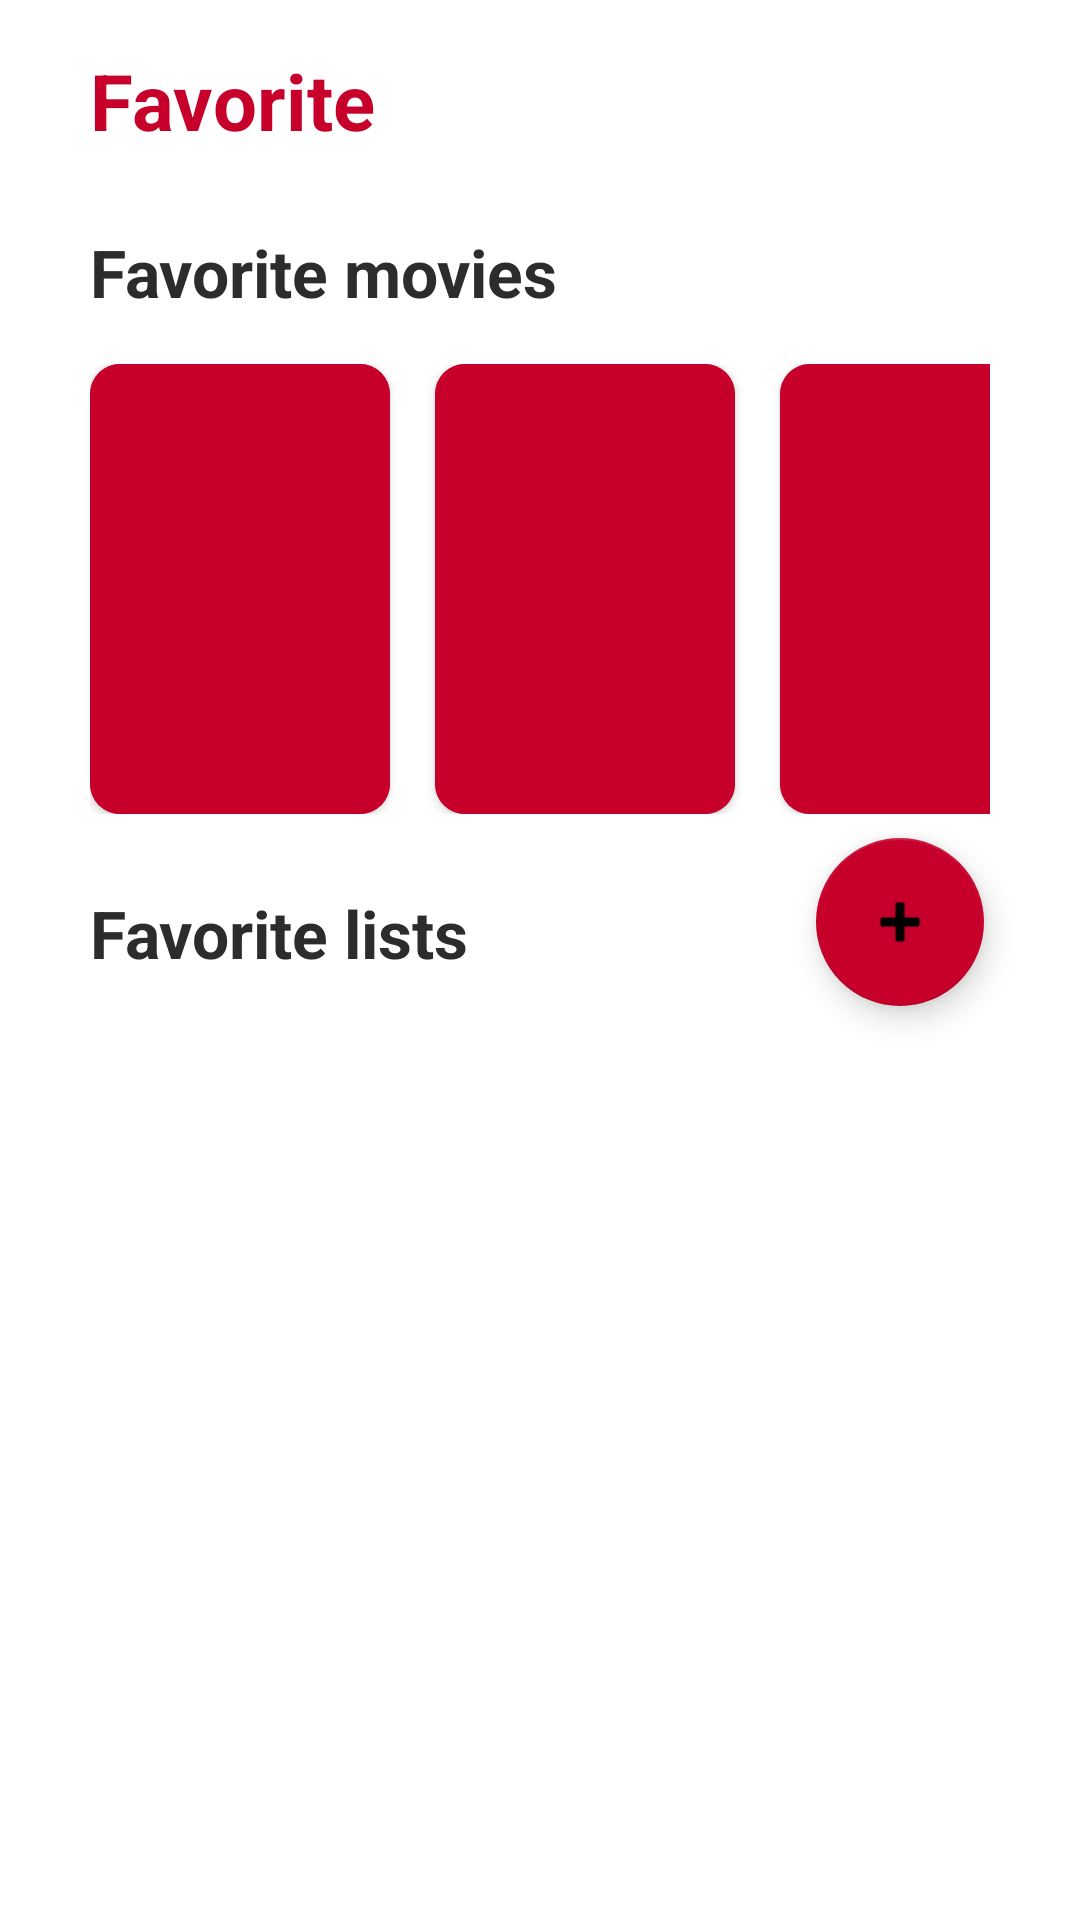

Where icons sit on this 1080px×1920px app screen, as [left=x1, top=y1, right=x2, bottom=y2]:
Create: [left=816, top=838, right=984, bottom=1006]
